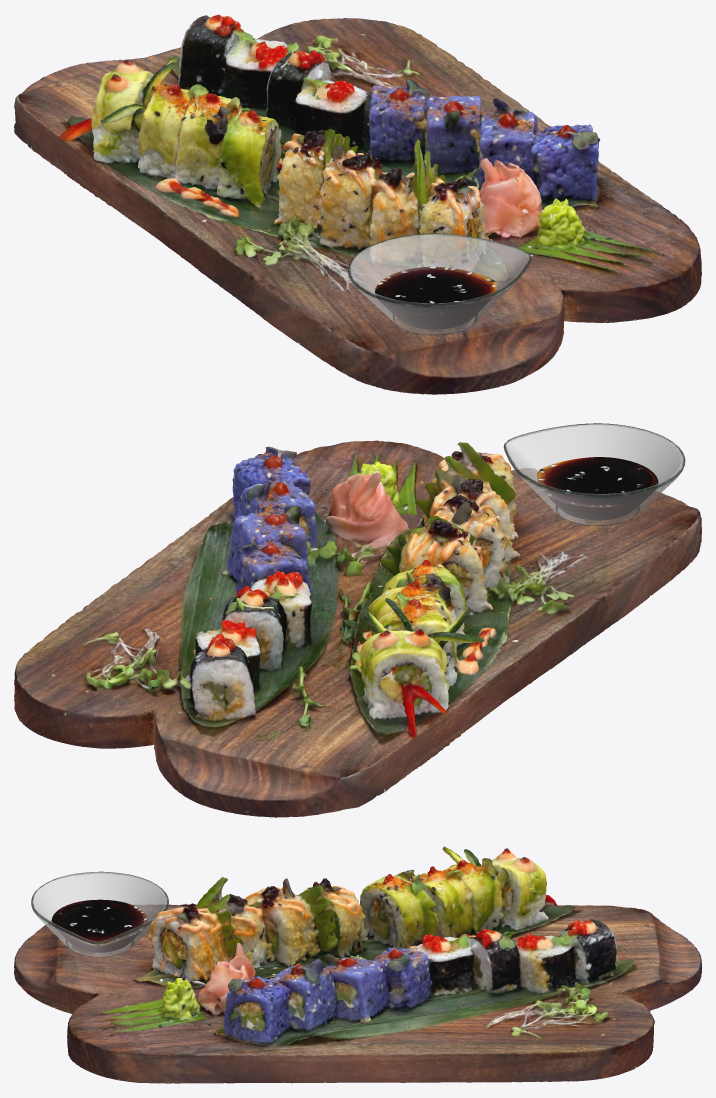
Rendered from Sushi_Platter.glb.
The picture shows the model from 3 angles, top to bottom: view 1: azimuth 30°, elevation 25°; view 2: azimuth 150°, elevation 25°; view 3: azimuth 270°, elevation 25°; orthographic projection. The views are drawn at different scales.
Parts seen in each view (by area): view 1: pCube2, Crunchy_sushi_roll_glass_pot_01:pot, Crunchy_sushi_roll_glass_pot_01:chatni; view 2: pCube2, Crunchy_sushi_roll_glass_pot_01:pot, Crunchy_sushi_roll_glass_pot_01:chatni; view 3: pCube2, Crunchy_sushi_roll_glass_pot_01:pot, Crunchy_sushi_roll_glass_pot_01:chatni.
Part boxes in pixels (x1,y1,x2,y2): pCube2: (14, 14, 701, 394); Crunchy_sushi_roll_glass_pot_01:pot: (348, 233, 531, 335); Crunchy_sushi_roll_glass_pot_01:chatni: (375, 266, 497, 329); pCube2: (14, 440, 701, 817); Crunchy_sushi_roll_glass_pot_01:pot: (503, 423, 685, 525); Crunchy_sushi_roll_glass_pot_01:chatni: (536, 457, 658, 520); pCube2: (14, 846, 701, 1083); Crunchy_sushi_roll_glass_pot_01:pot: (31, 871, 168, 957); Crunchy_sushi_roll_glass_pot_01:chatni: (51, 899, 148, 952).
Size of the model in its own units: 0.15 by 0.051 by 0.2751.
3 materials, 3 textured.
